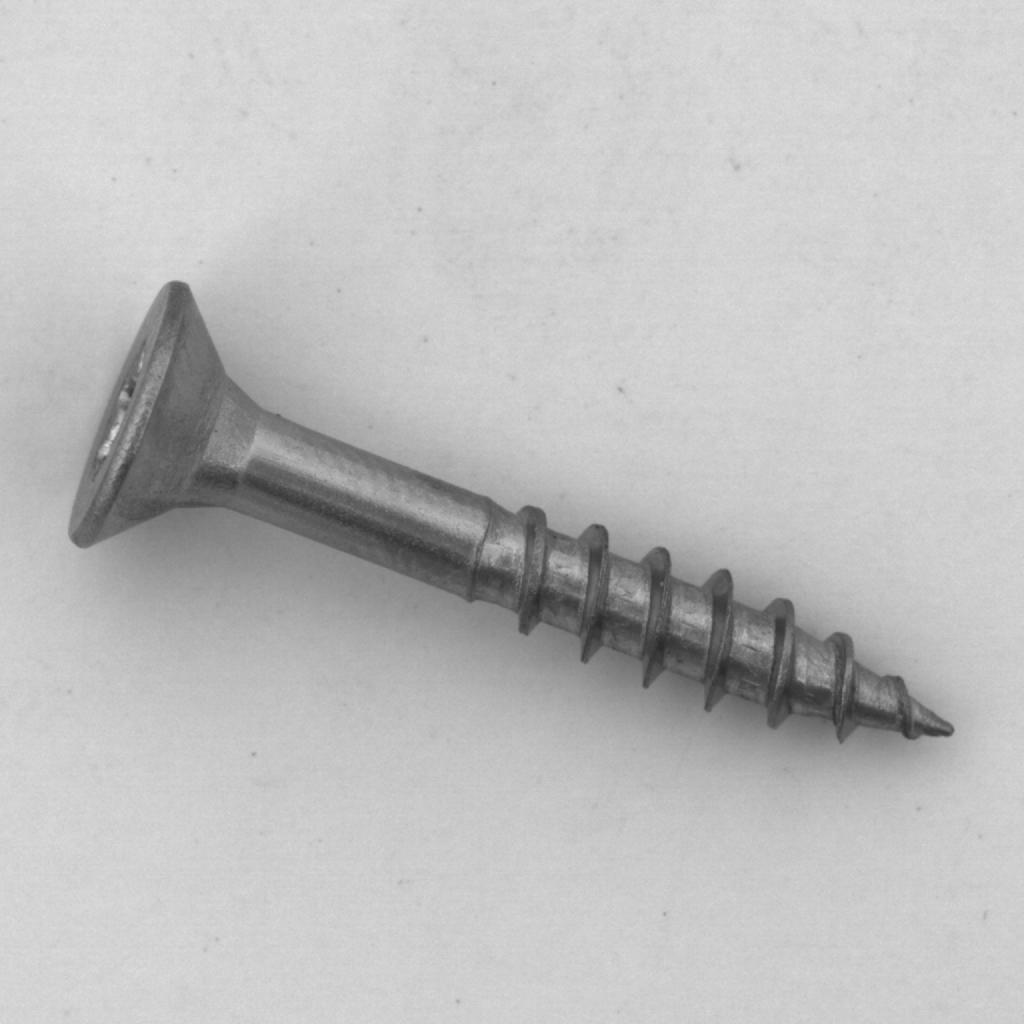good: (54, 271, 971, 758)
